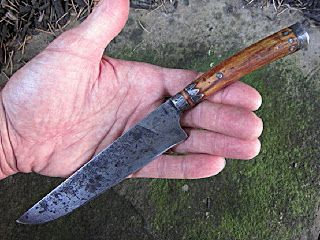knife: (13, 19, 314, 228)
